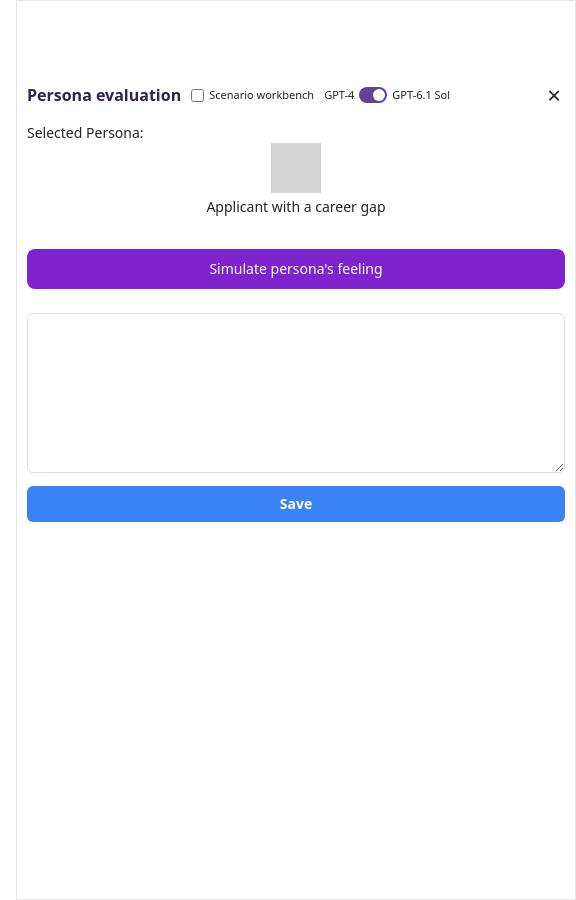
Scenario: releases the pending state and shows a retryable error after an empty AI response
Click the button "Simulate persona's feeling": (296, 269) [27, 249, 565, 289]
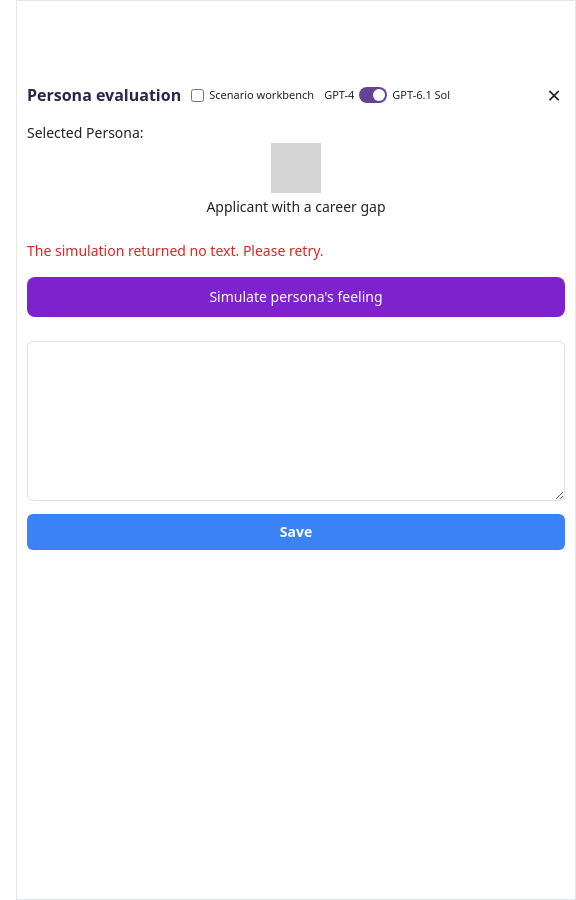
Check: the button "Simulate persona's feeling" is enabled, box [27, 277, 565, 317]
Check: the message shows "no text", box [27, 241, 324, 260]
